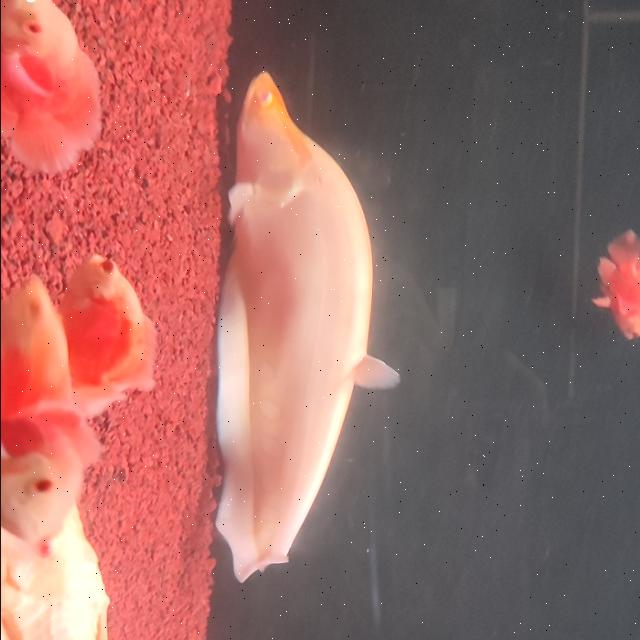Mulut: (228, 64, 280, 124)
Sirip Punggung: (345, 350, 407, 400)
